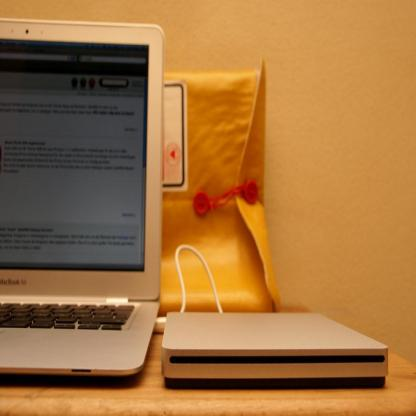board: (4, 30, 158, 404)
